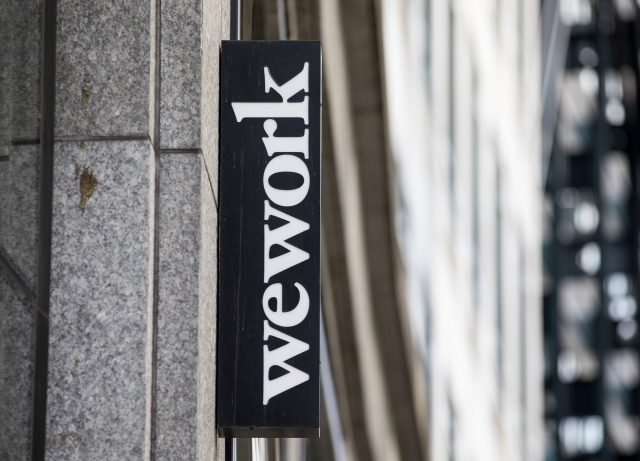wework: (227, 56, 315, 410)
